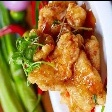guobaorou: (17, 0, 104, 112)
